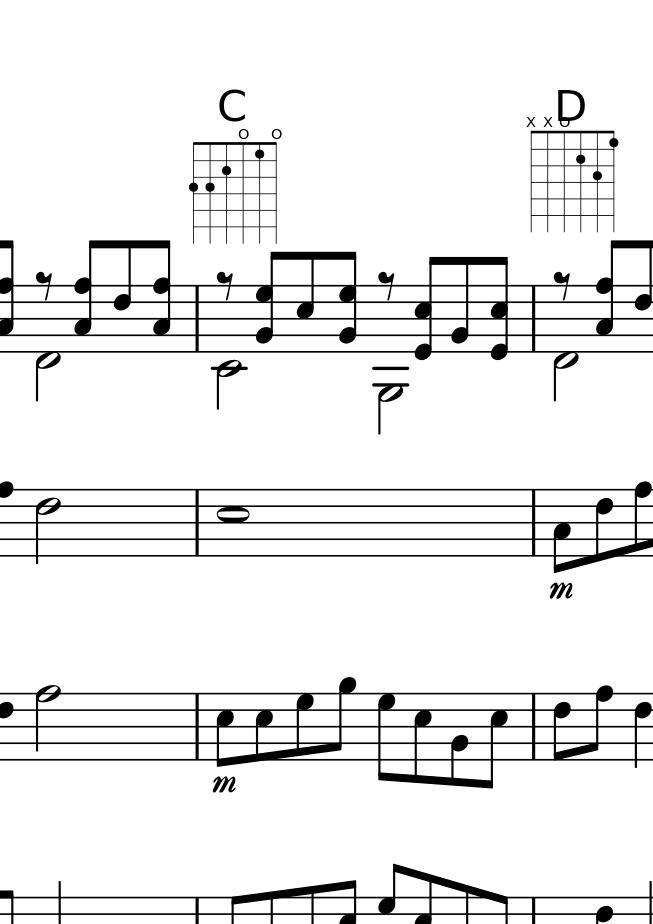1_5: (217, 488, 251, 559)
2_-1: (32, 282, 63, 402), (554, 284, 579, 406)
2_-2: (214, 284, 242, 415)
2_-3: (377, 283, 407, 437)
2_6: (34, 487, 61, 563)
2_8: (34, 684, 62, 763)
4_6: (631, 692, 653, 774)
8_0_5: (413, 256, 440, 361), (488, 256, 510, 359)
8_2: (451, 256, 477, 360), (449, 692, 468, 789)
8_2_7: (255, 250, 280, 354), (338, 250, 358, 353)
8_3: (553, 486, 572, 574)
8_3_8: (74, 239, 100, 353), (594, 238, 620, 352), (152, 239, 172, 354)
8_5: (484, 690, 509, 791), (296, 249, 318, 355), (413, 691, 433, 787), (254, 691, 274, 763), (216, 689, 234, 768)
8_6: (112, 239, 134, 357), (634, 239, 653, 355), (594, 488, 614, 565), (551, 691, 572, 763)
8_7: (376, 691, 396, 784), (297, 687, 317, 762)
8_8: (585, 685, 613, 762), (632, 479, 653, 561)
8_9: (329, 675, 357, 763)
Fermata_above: (524, 114, 621, 236)
Fretboard: (185, 129, 289, 246)
Rests8: (375, 265, 402, 307), (548, 268, 578, 301), (213, 265, 239, 302), (34, 271, 53, 300)
Single_barline: (522, 284, 545, 354), (523, 488, 546, 557), (186, 692, 209, 760), (187, 285, 209, 353), (523, 692, 544, 762), (188, 488, 209, 557)
m: (207, 773, 241, 797), (547, 580, 576, 602)
